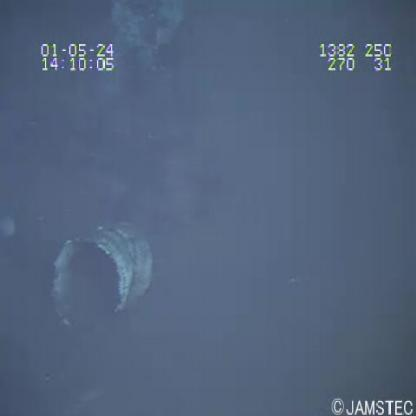Rác: (48, 216, 158, 344)
